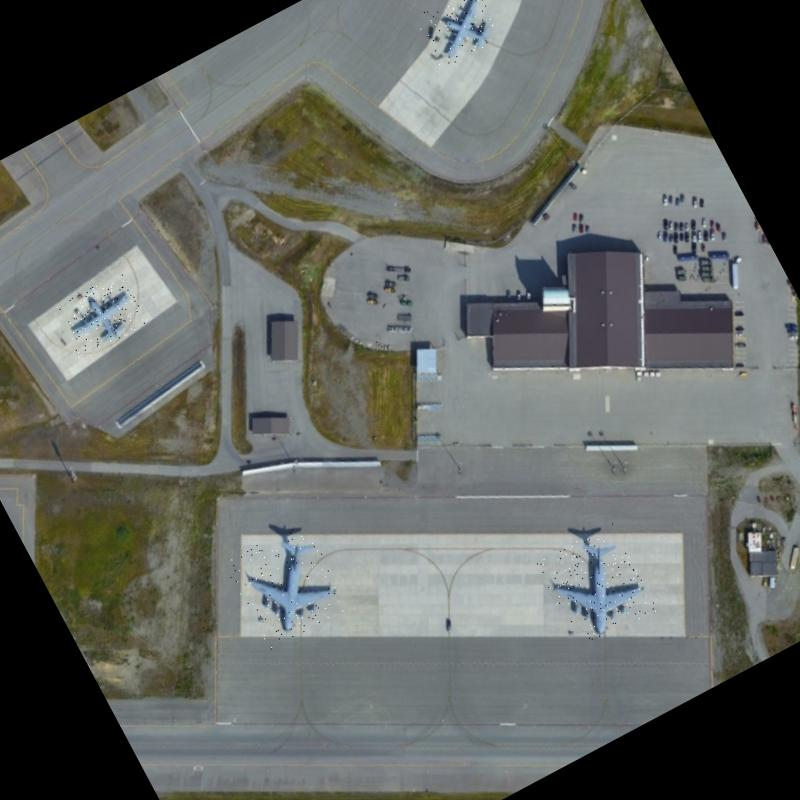A2: (52, 270, 148, 360), (412, 0, 502, 69)
A3: (222, 519, 351, 650), (535, 521, 659, 650)
